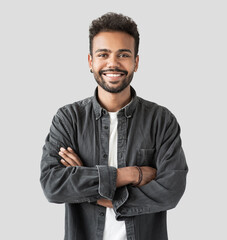young: (81, 11, 147, 93)
